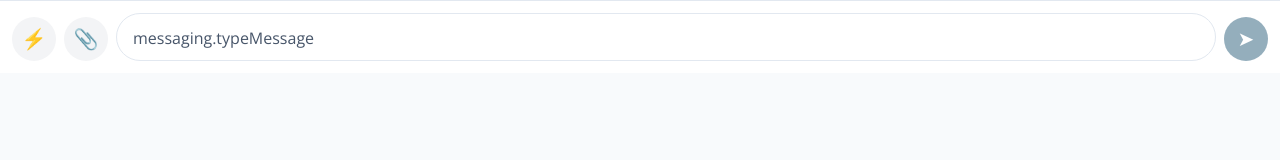
Test case: MessageInput › Quick Replies › closes dropdown after selection
Click the button named "quick". click: (34, 39)
box: [12,17,56,61]
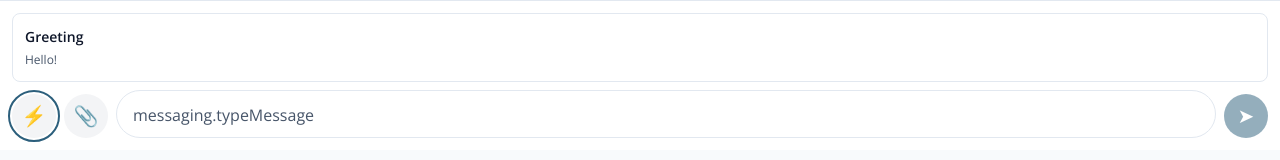
Click the text "Greeting". click: (54, 36)
box: [25,26,83,47]
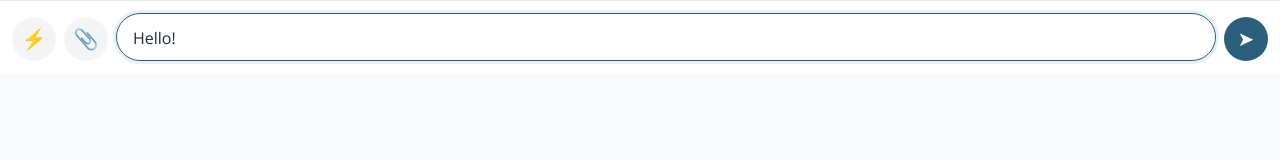
expect the list is gone: met
